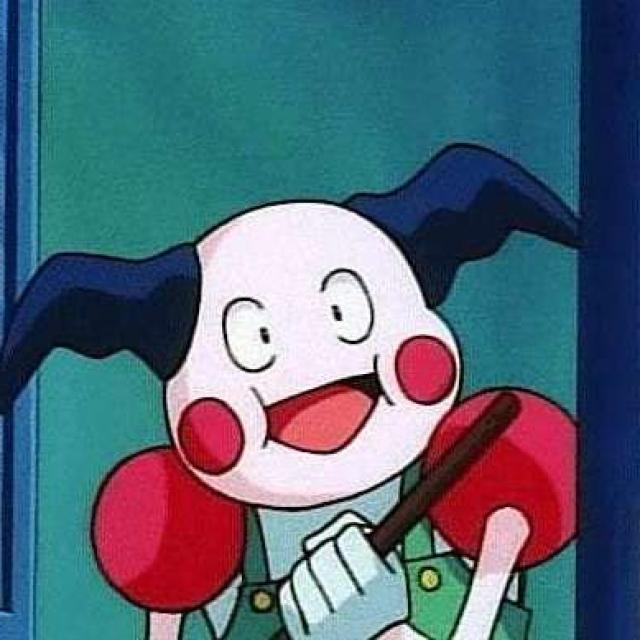MrMime: (76, 199, 538, 640)
